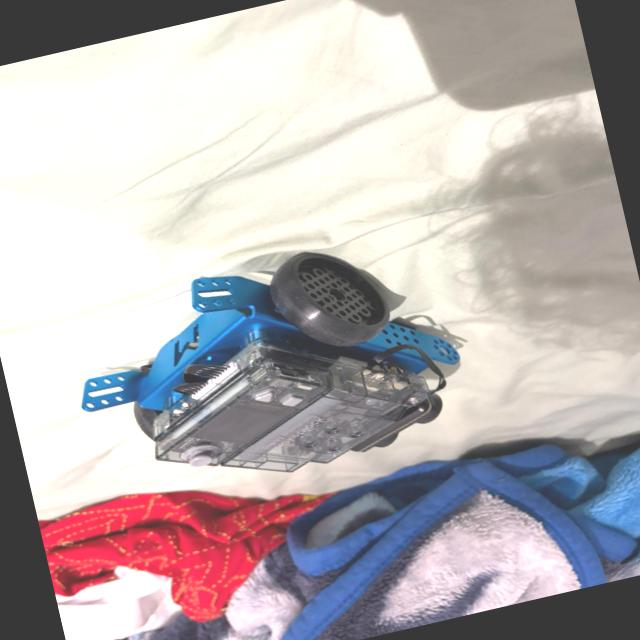mbot-detection: (47, 217, 484, 522)
